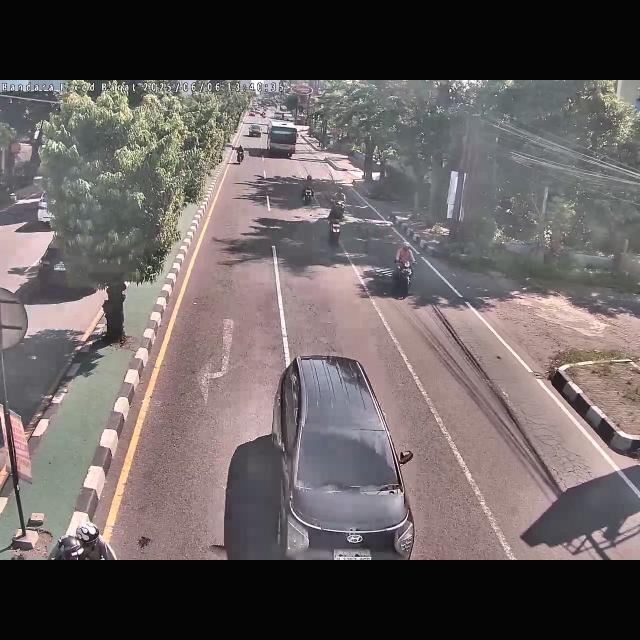Bis: (266, 116, 298, 160)
Mobil: (271, 352, 417, 560)
Motor: (53, 512, 115, 560), (392, 237, 416, 300), (326, 183, 349, 225), (325, 205, 345, 253), (299, 172, 317, 208), (232, 143, 245, 167)
